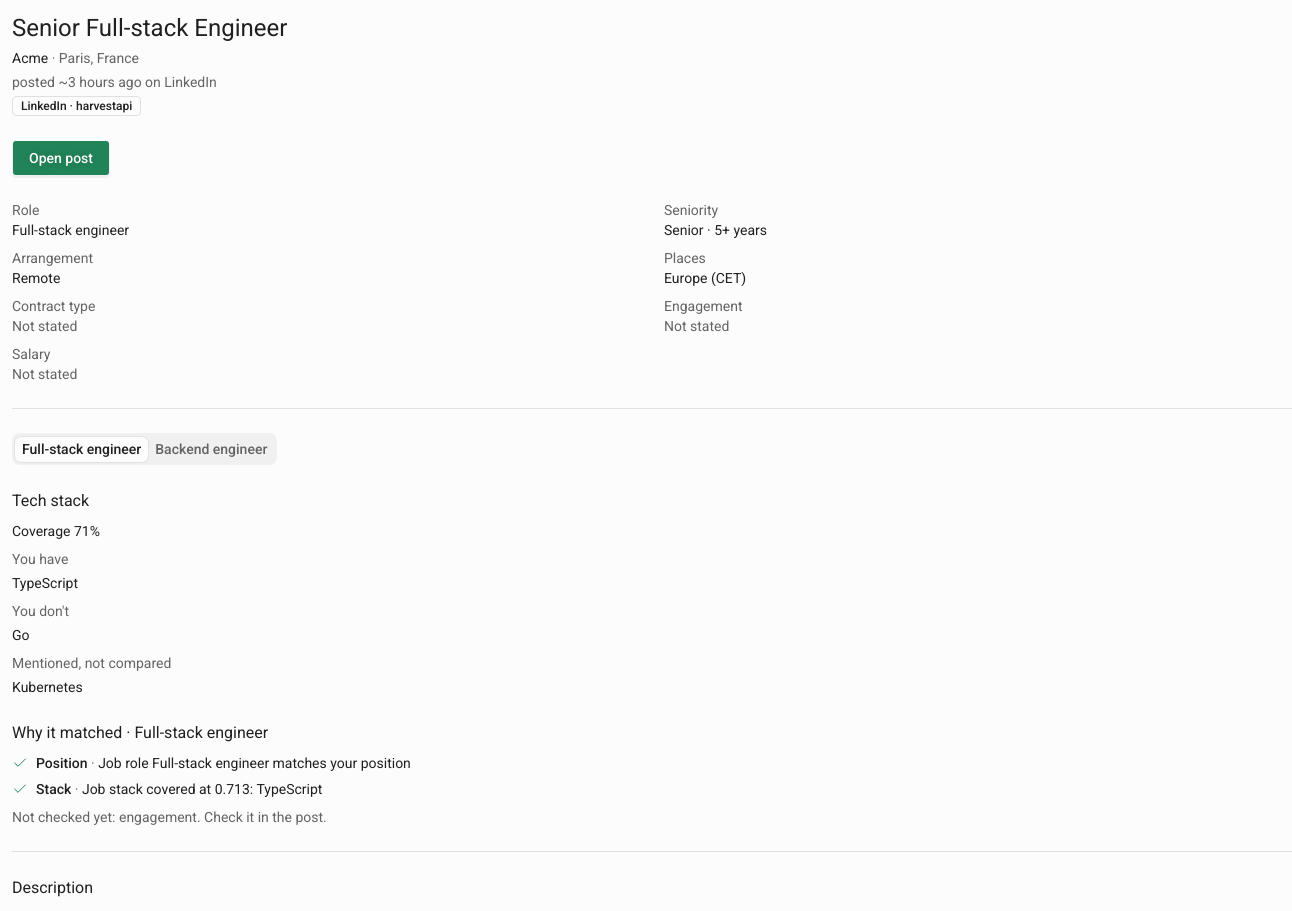
Test: MatchDetail › shows profile tabs only when several profiles matched
Expected: the element showing "Full-stack engineer Backend engineer" is shown, [12, 433, 277, 465]
Click the tab "Backend engineer".
click(211, 449)  # box [148, 436, 274, 462]
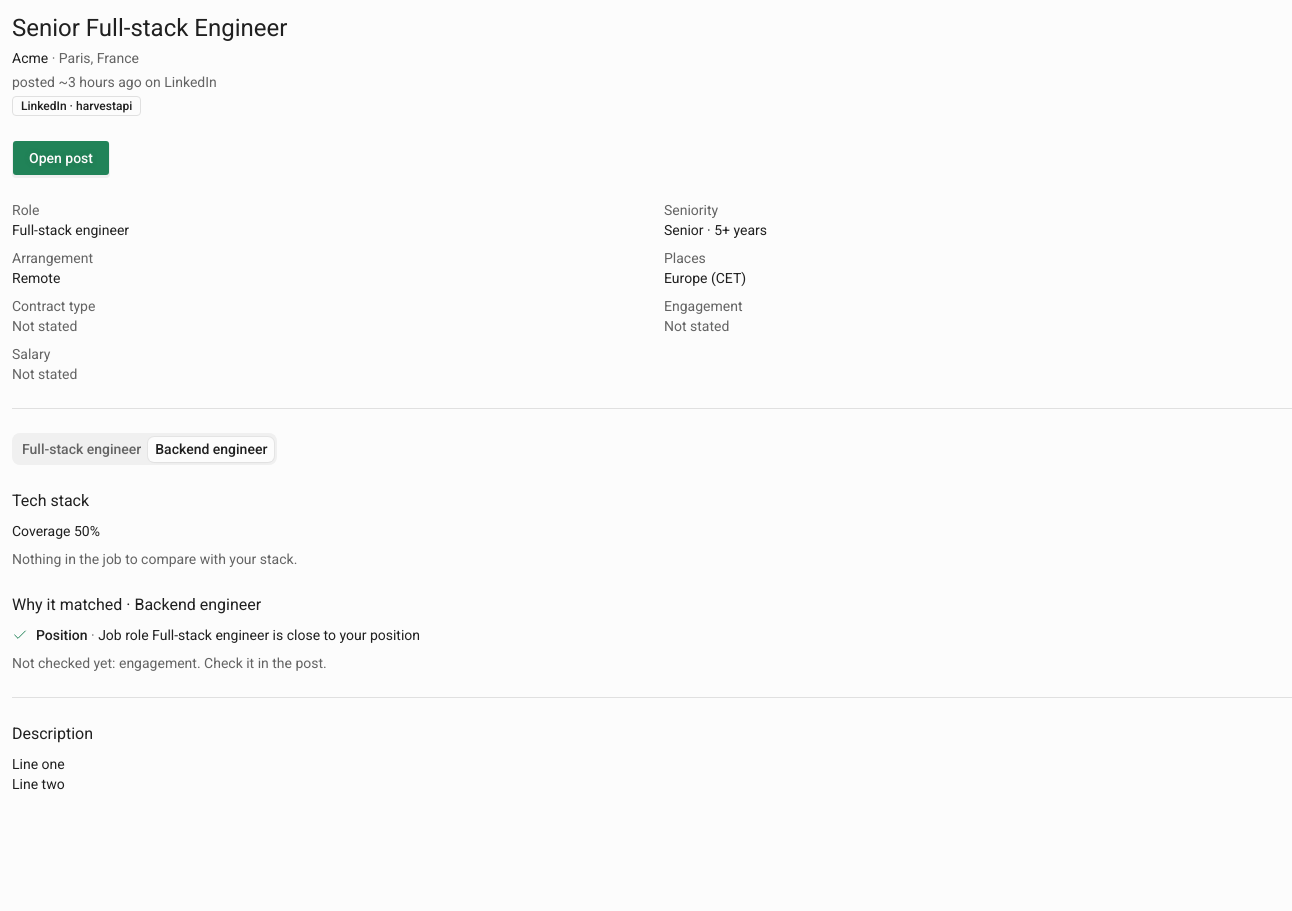
Now the heading "Why it matched · Backend engineer" is shown, box [12, 595, 261, 614]
Now the text "Job role Full-stack engineer is close to your position" is shown, box [98, 627, 420, 643]
